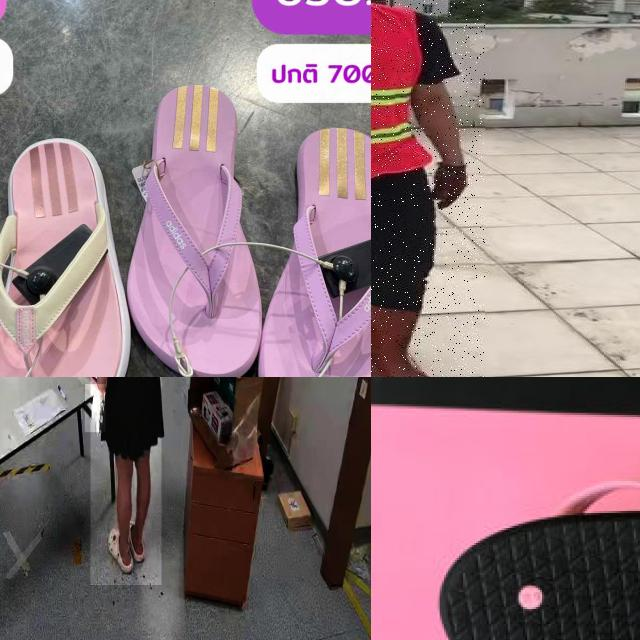Sandals: (111, 54, 371, 377), (432, 463, 640, 640), (0, 114, 139, 377)
boots: (371, 300, 442, 377)
hand_glove: (85, 384, 106, 433)
person: (371, 0, 485, 377), (90, 377, 161, 586)
vest: (371, 6, 424, 179)
